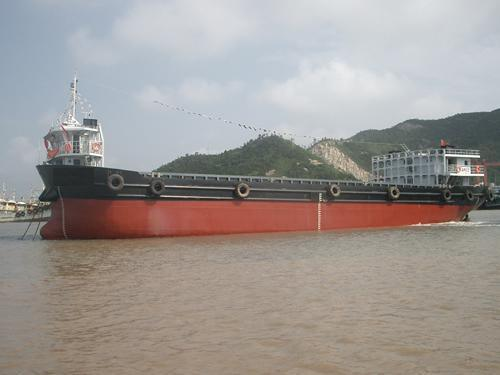Cargoship: (22, 108, 492, 227)
